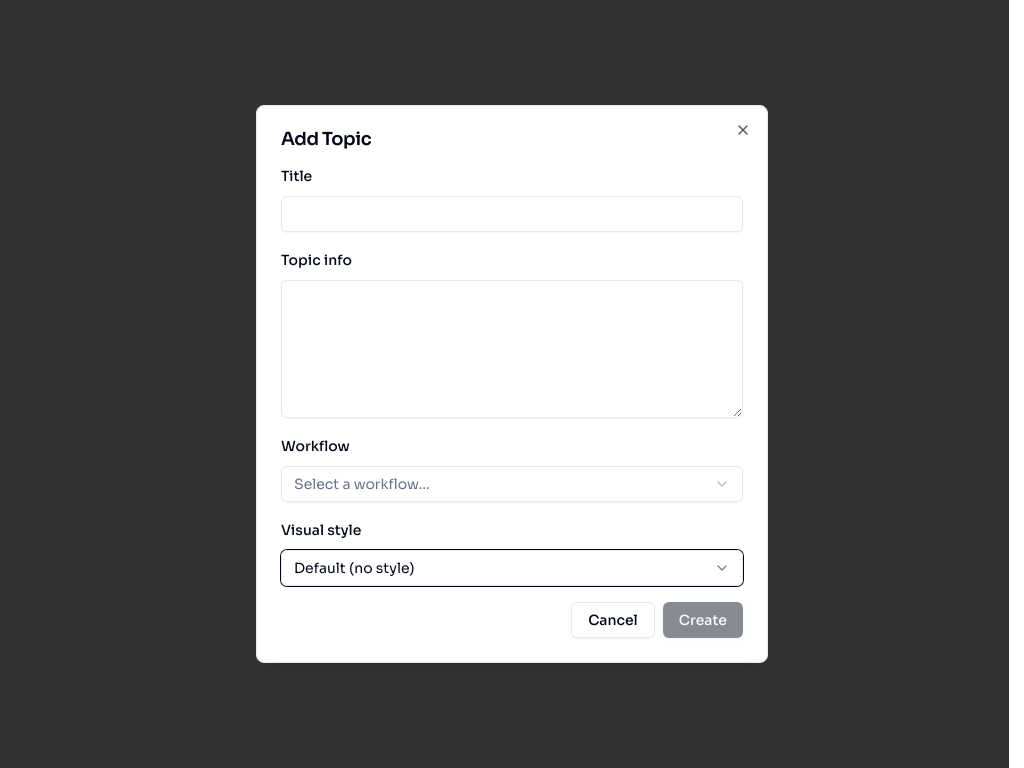
Test: AddVideoModal › 'Show prompt' disclosure reveals the selected style's prompt text
Press Enter in the dropdown named "visual style", box [281,550,743,586]
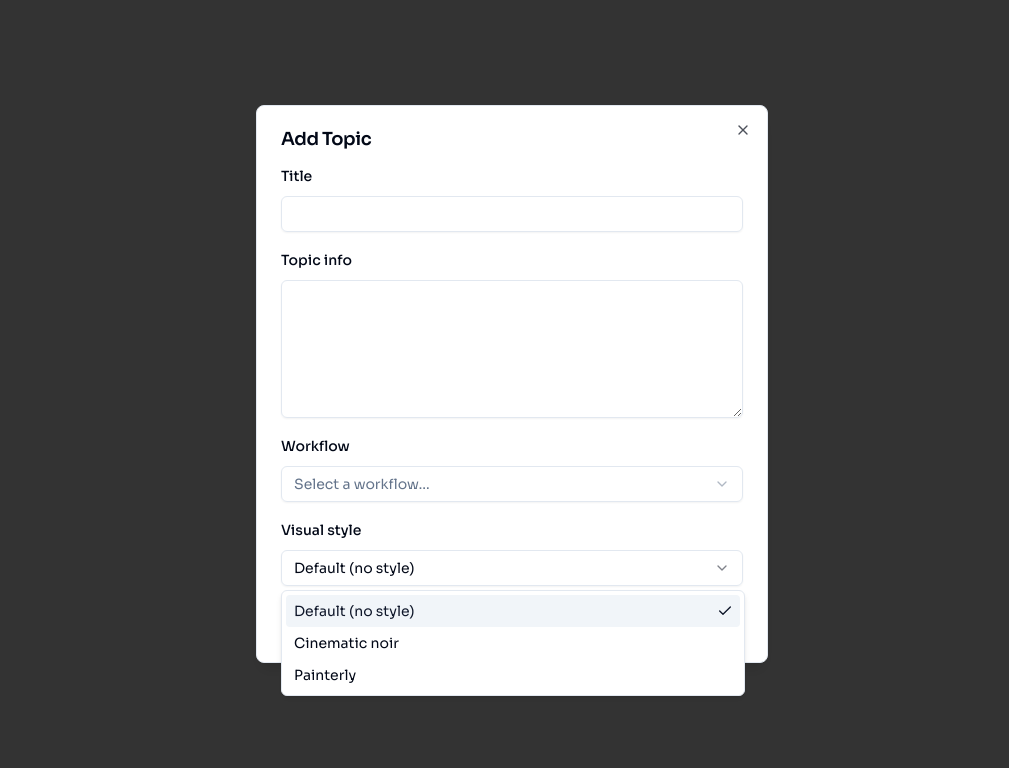
Click the option "Painterly" at [325, 675], box [294,666,356,684]
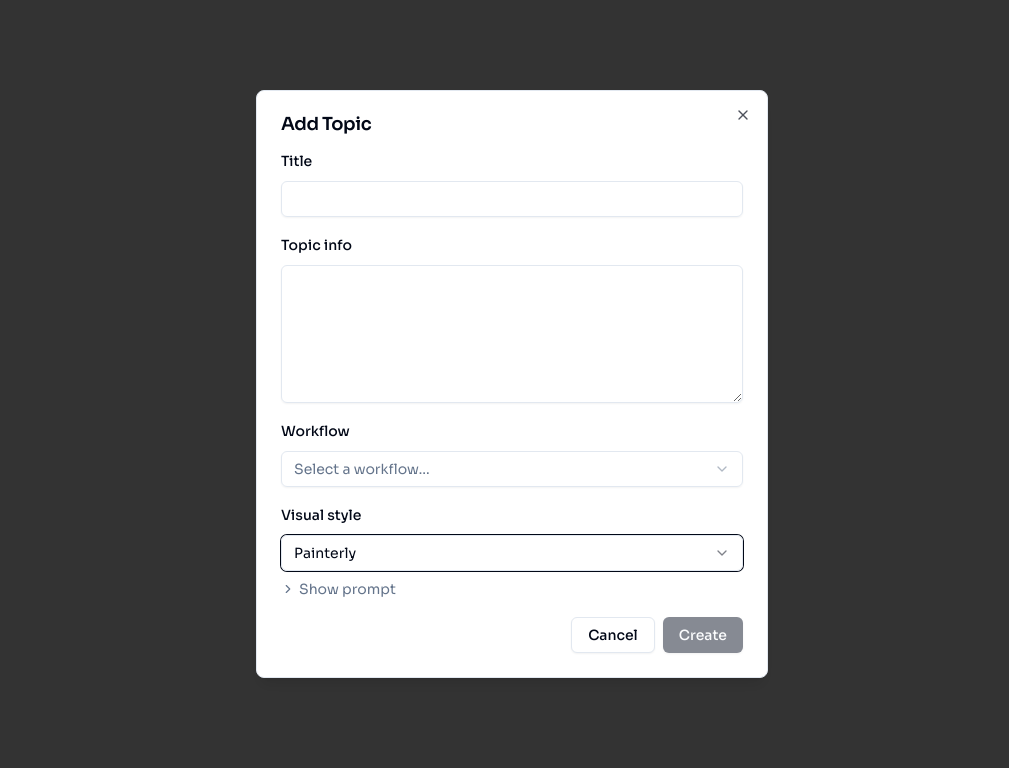
Expected: the text "painterly prompt body" is not shown
Click the button "Show prompt" at [338, 589], box [281,579,396,599]
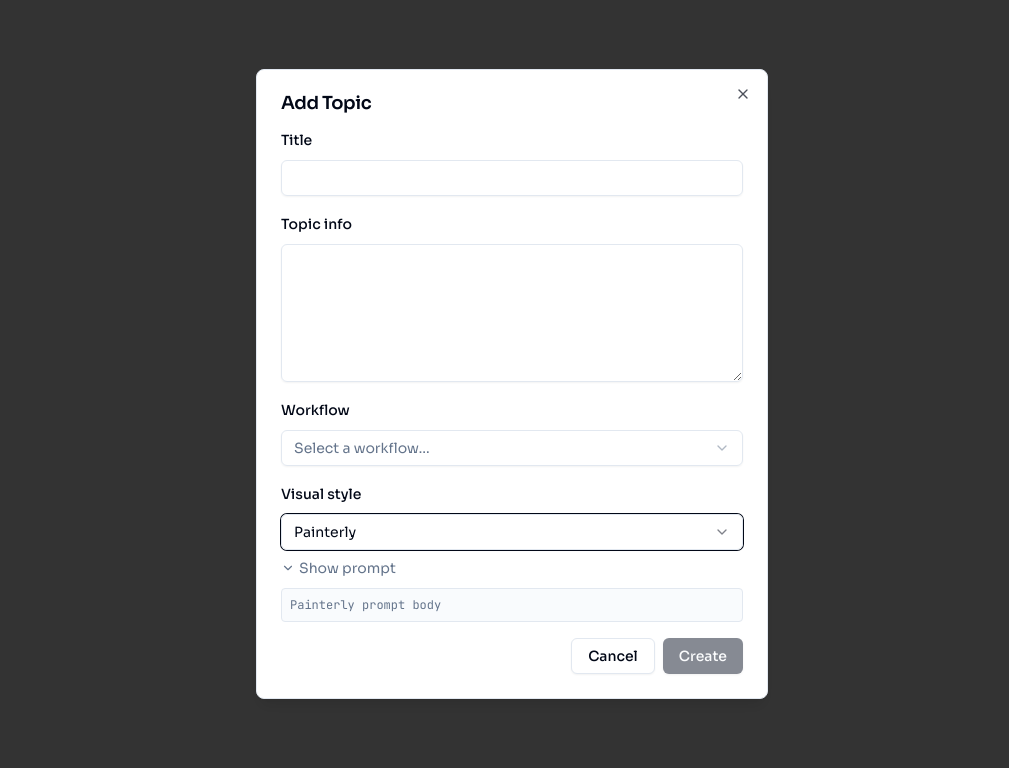
Expected: the text "Painterly prompt body" is shown, [281,588,743,622]
